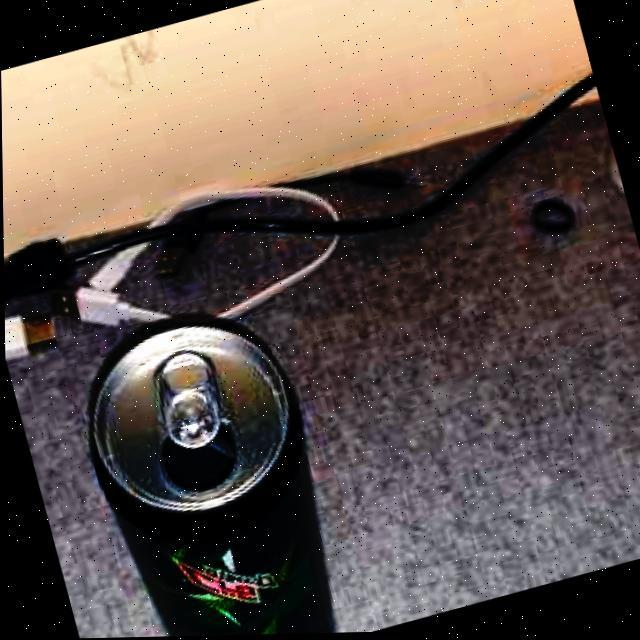Lata: (89, 315, 332, 631)
